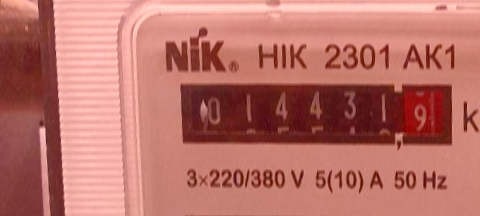0: (201, 92, 222, 126)
1: (237, 88, 257, 122), (374, 90, 389, 122)
3: (337, 88, 358, 121)
4: (268, 87, 291, 121), (303, 85, 323, 120)
9: (408, 99, 426, 131)
screen: (167, 63, 465, 163)
